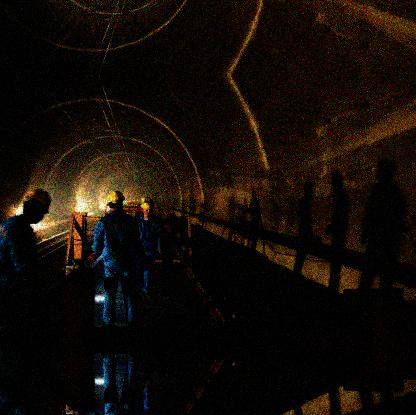helmet: (24, 186, 51, 225), (105, 191, 125, 211), (140, 197, 156, 218)
